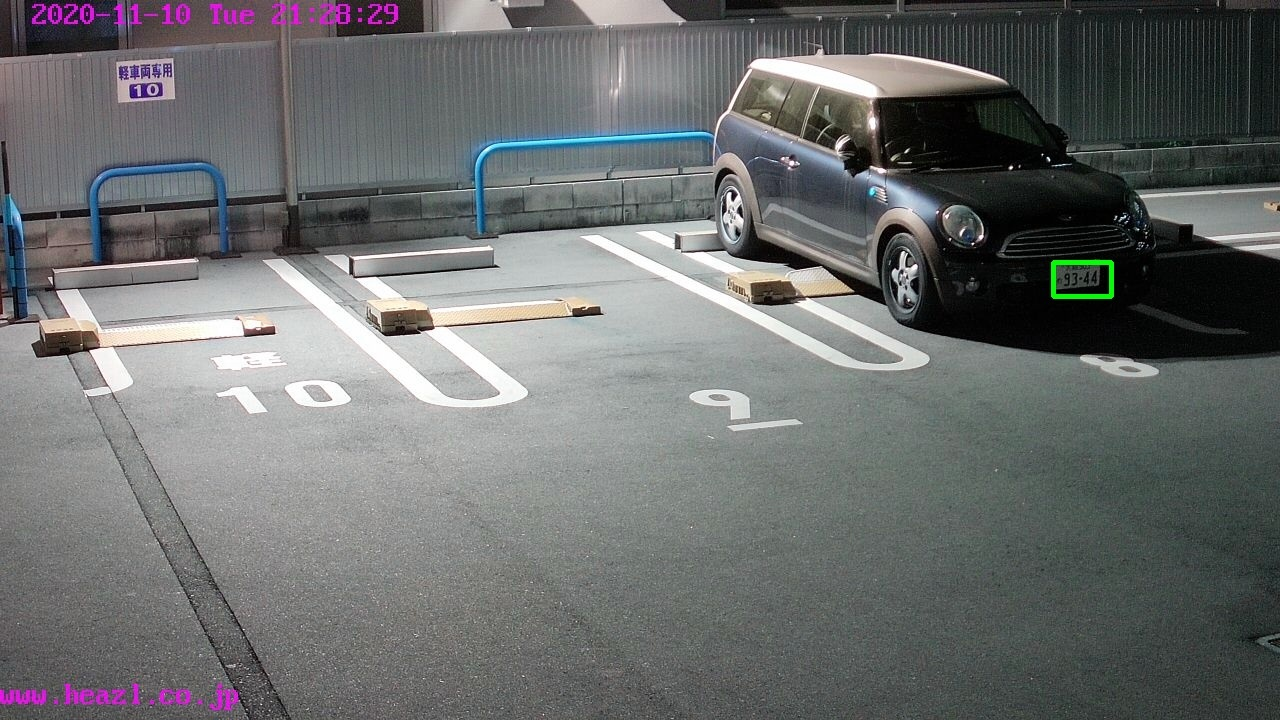number_plate: (1052, 260, 1102, 289)
